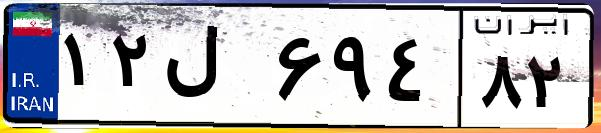1: (57, 26, 110, 100)
2: (525, 38, 570, 115), (110, 28, 158, 98)
4: (385, 28, 445, 110)
6: (270, 28, 330, 110)
8: (475, 38, 525, 113)
9: (330, 28, 385, 110)
ل: (158, 20, 270, 120)
